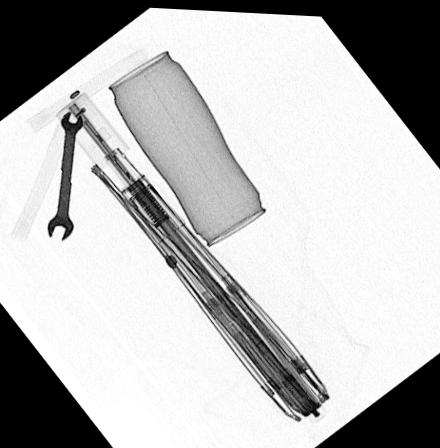Wrench: (43, 105, 82, 242)
